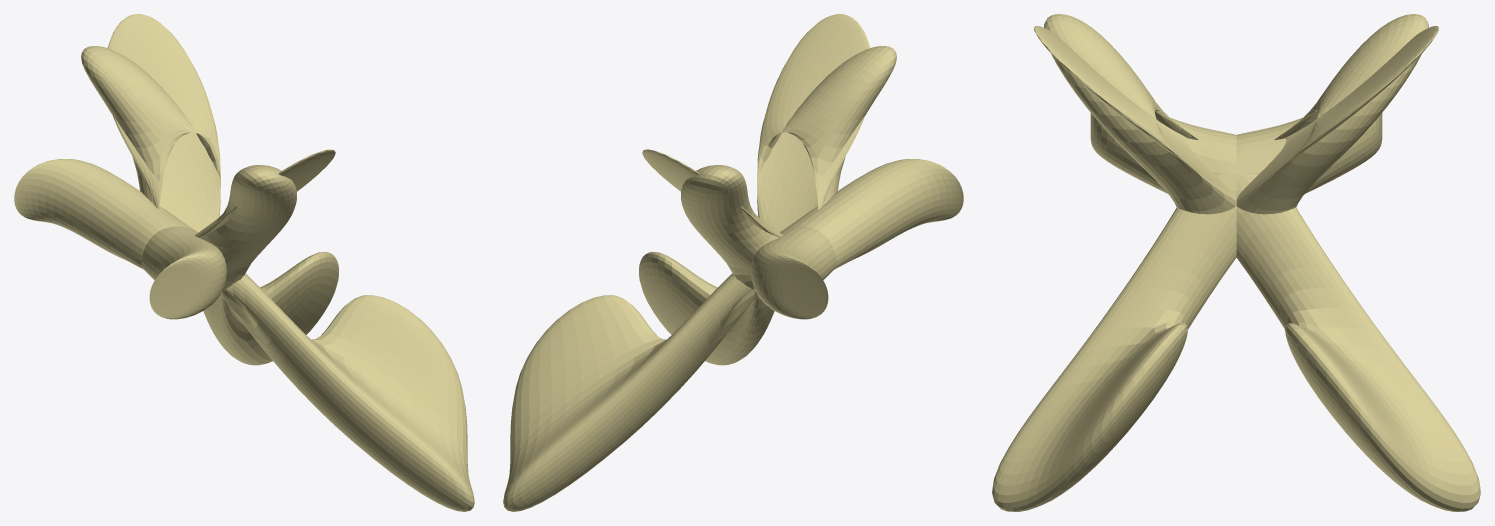
File: Creaturestruc21.obj
The picture shows the model from 3 angles, left to right: view 1: azimuth 30°, elevation 25°; view 2: azimuth 150°, elevation 25°; view 3: azimuth 270°, elevation 25°; orthographic projection. The views are drawn at different scales.
Visible parts, largest first — view 1: Cube_Cube.022; view 2: Cube_Cube.022; view 3: Cube_Cube.022.
Part boxes in pixels (x1,y1,x2,y2): Cube_Cube.022: (14, 14, 474, 511); Cube_Cube.022: (503, 14, 963, 511); Cube_Cube.022: (992, 14, 1480, 511).
Bounding box in the file's own units: 9.68 × 11.27 × 12.09.
